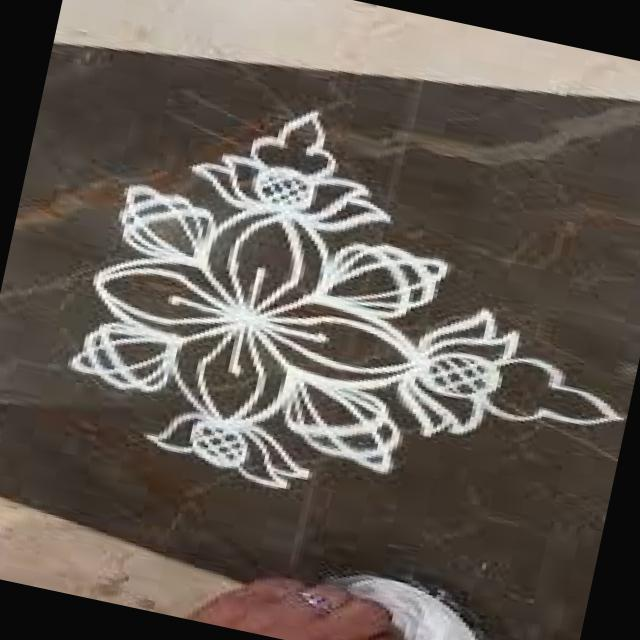rangoli: (37, 63, 640, 563)
